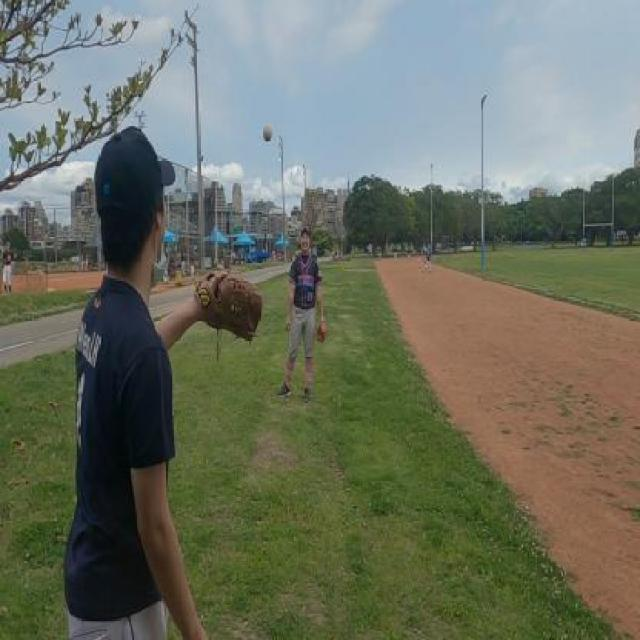baseball: (263, 125, 272, 142)
